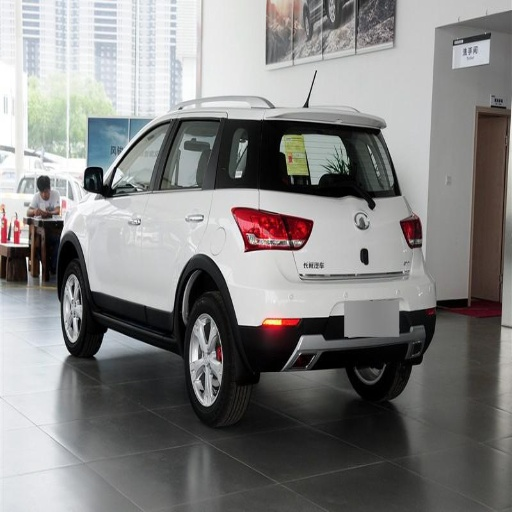back_bumper: (222, 240, 434, 371)
back_glass: (237, 121, 394, 192)
back_left_door: (142, 116, 220, 328)
trunk: (275, 196, 409, 279)
